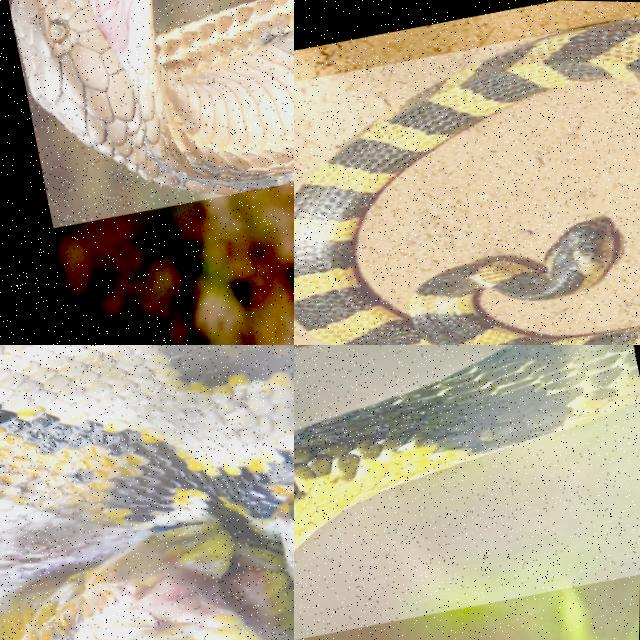Bungarus fasciatus: (294, 22, 639, 344)
Malayopython reticulatus: (0, 345, 293, 639)
Ophiophagus hannah: (294, 345, 639, 551), (12, 0, 293, 194)
